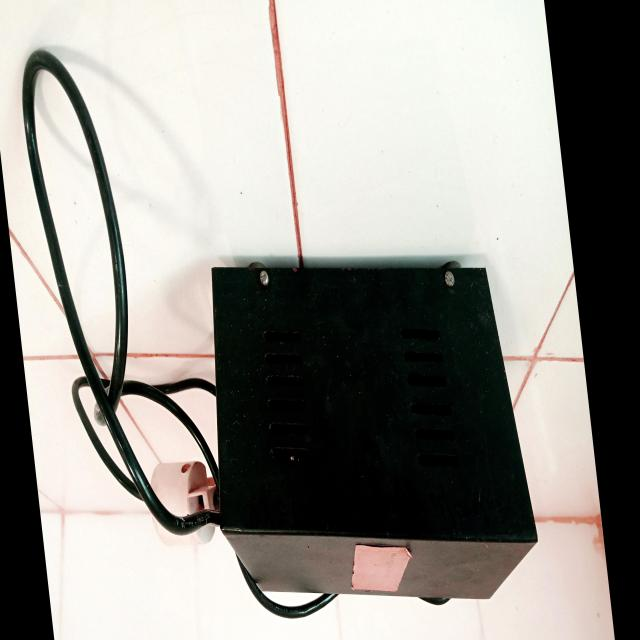Sodium Lamp Power Supply: (184, 239, 552, 618)
